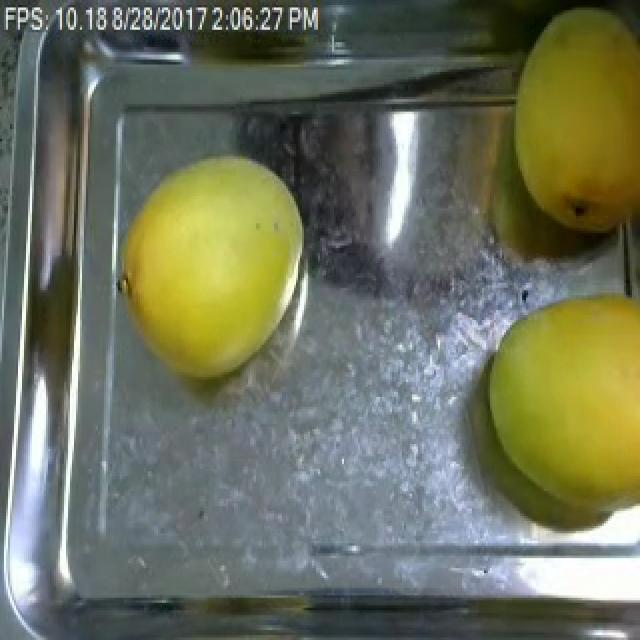fruit: (108, 144, 316, 394), (470, 278, 640, 536), (494, 0, 640, 246)
